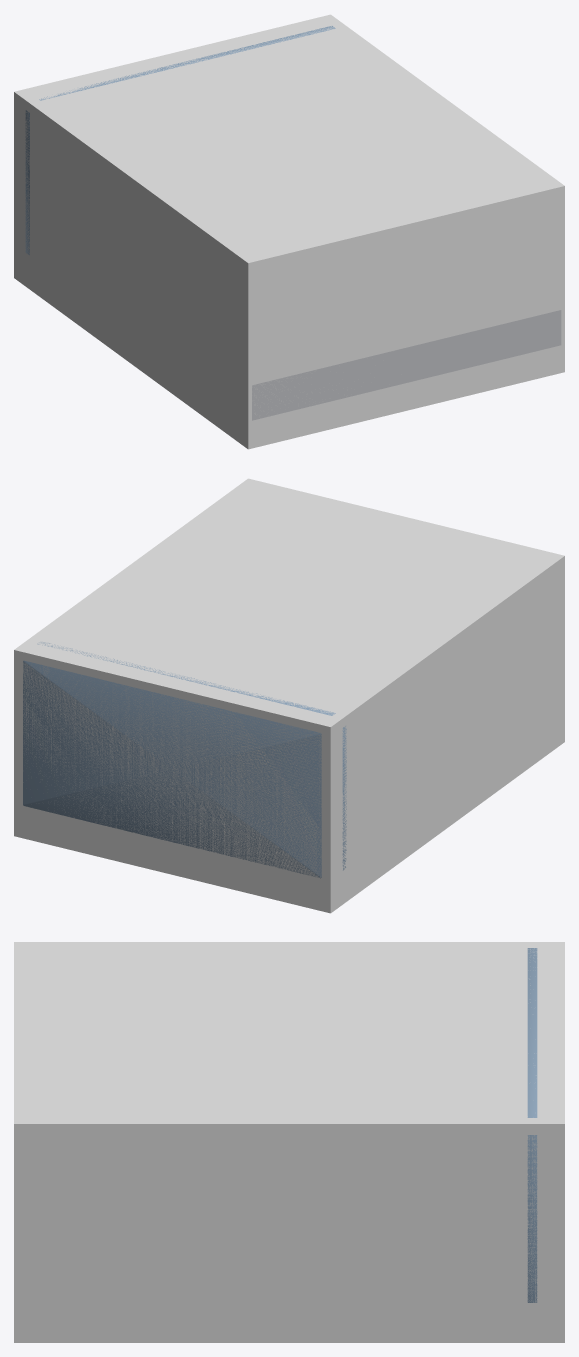
The model's file is double_bed.glb.
3 renders of one model, top to bottom at view 1: azimuth 30°, elevation 25°; view 2: azimuth 150°, elevation 25°; view 3: azimuth 270°, elevation 25°, orthographic. The views are drawn at different scales.
Parts seen in each view (by area): view 1: DoubleBed_COL, double-bed-upholstered_1, double-bed-upholstered_3; view 2: DoubleBed_COL, double-bed-upholstered_3; view 3: DoubleBed_COL, double-bed-upholstered_3.
Boxes of the visible parts, x1,y1,x2,y2 form: DoubleBed_COL: (14,14,564,449); double-bed-upholstered_1: (252,310,561,420); double-bed-upholstered_3: (25,26,335,255); DoubleBed_COL: (14,478,564,913); double-bed-upholstered_3: (23,642,346,878); DoubleBed_COL: (14,942,564,1342); double-bed-upholstered_3: (527,948,537,1302).
Size of the model in its own units: 1.71 by 0.9609 by 2.19.
